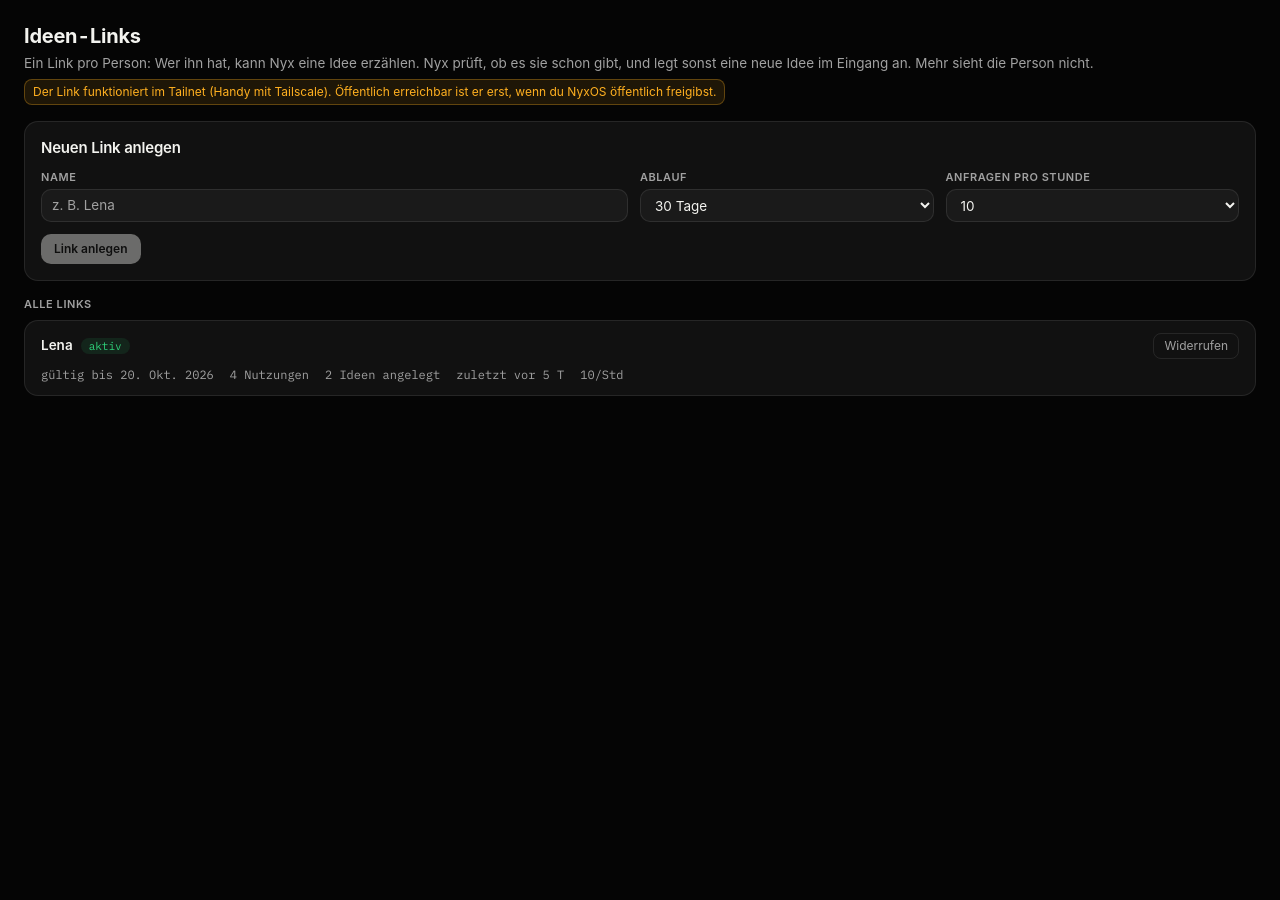
Test case: Ideen-Links › legt einen Link an und zeigt die URL genau einmal
Expected: the text "Lena" is shown, [41, 336, 73, 356]
Expected: the text "funktioniert im Tailnet" is shown, [33, 84, 716, 99]
Type "Max" into the field labelled "Name" at (334, 206), box [41, 189, 628, 222]
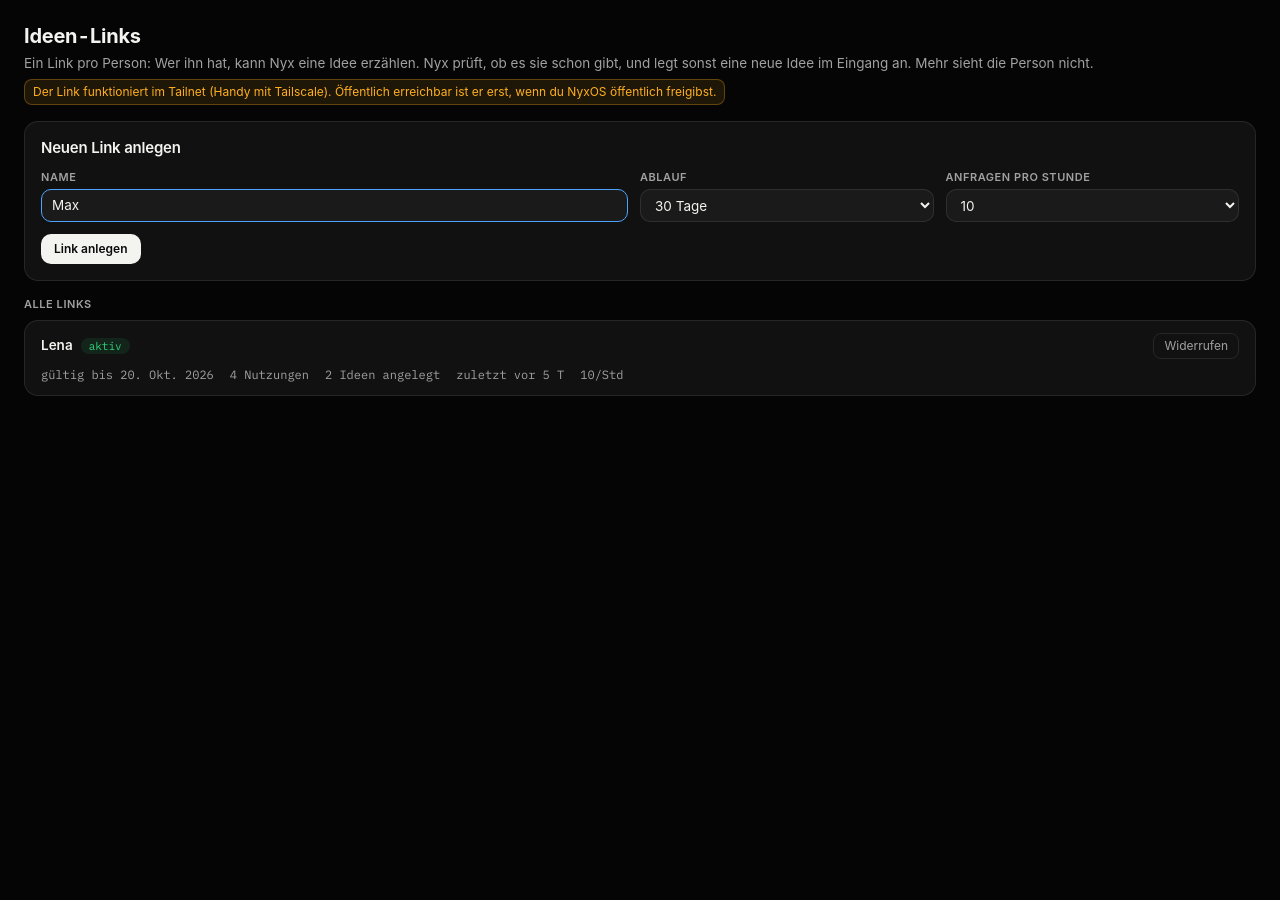
Select "30 Tage" in the dropdown labelled "Ablauf" at (787, 206), box [640, 190, 934, 222]
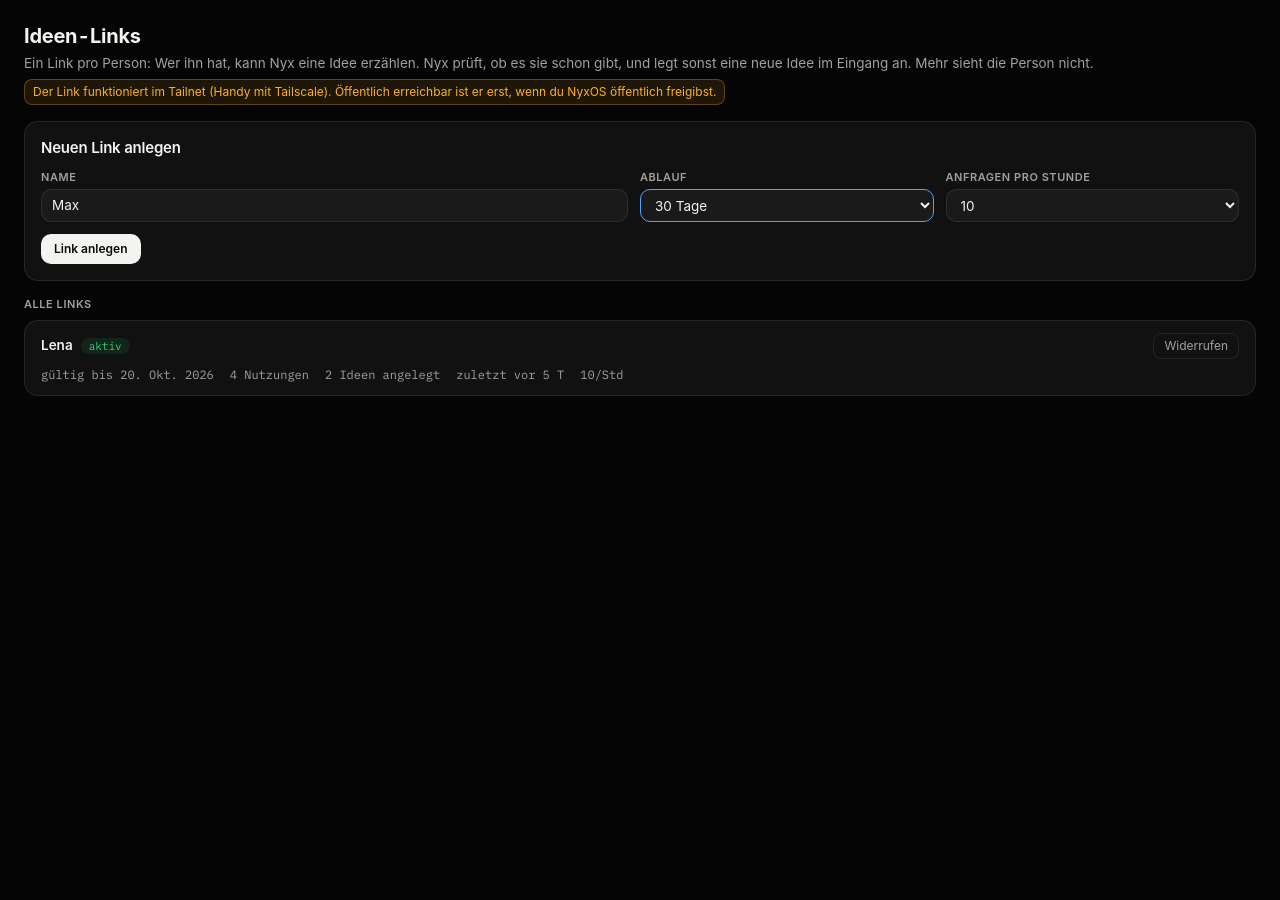
Select "5" in the dropdown labelled "Anfragen pro Stunde" at (1092, 206), box [946, 190, 1239, 222]
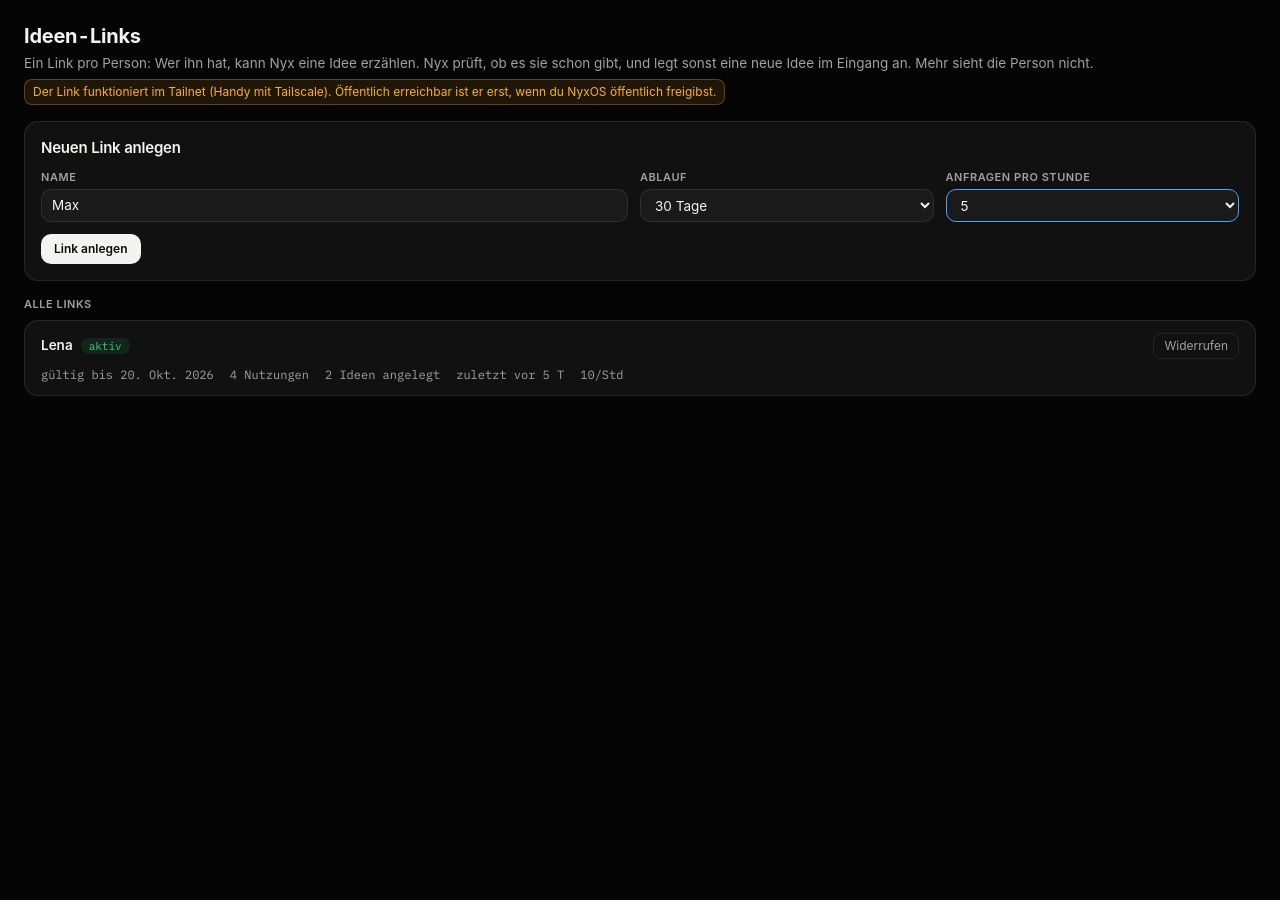
Click the button "Link anlegen" at (91, 249), box [41, 234, 140, 264]
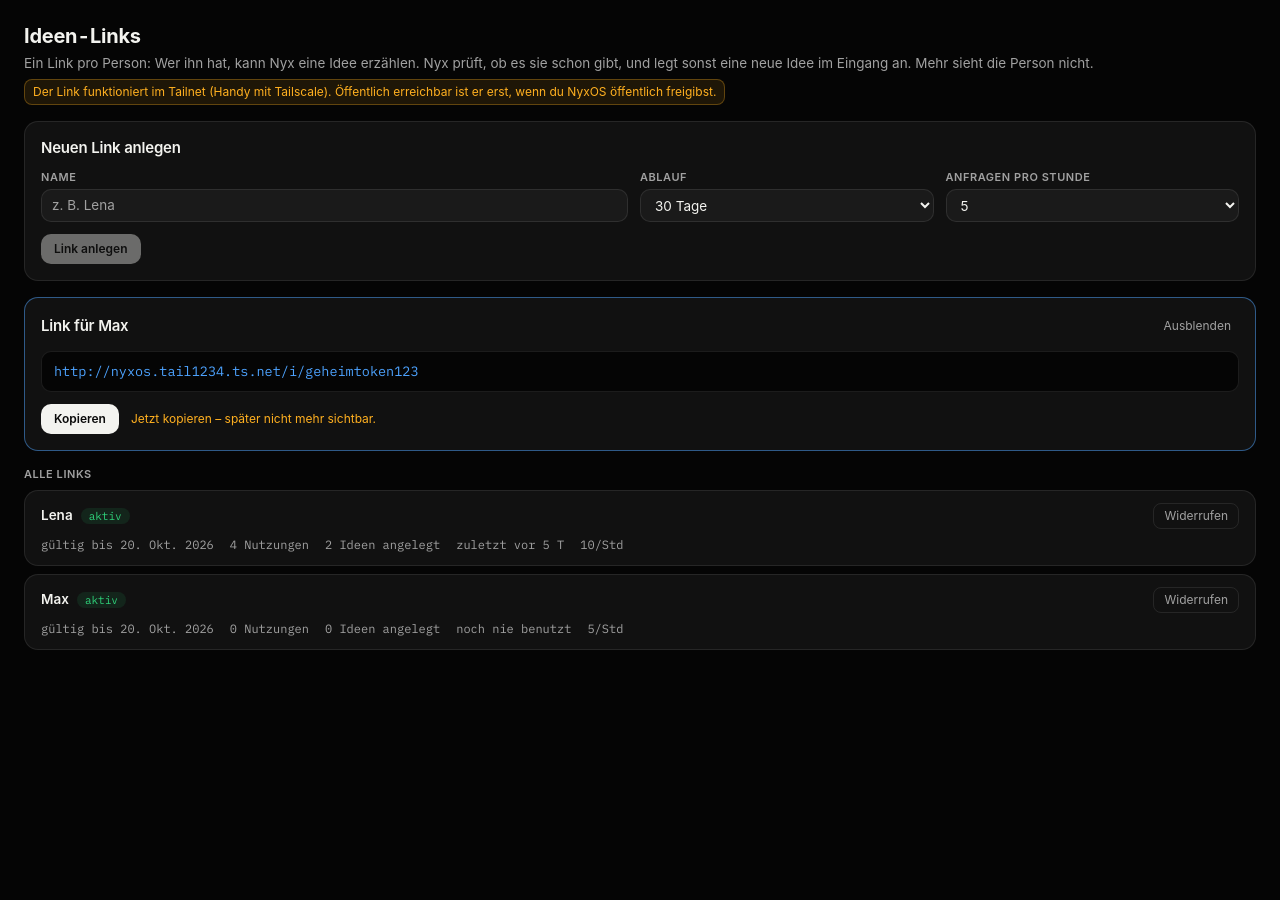
Now the text "http://nyxos.tail1234.ts.net/i/geheimtoken123" is shown, box [41, 351, 1239, 392]
Now the text "Jetzt kopieren – später nicht mehr sichtbar." is shown, box [131, 411, 376, 427]
Now the button "Kopieren" is shown, box [41, 404, 119, 434]
Click the button "Ausblenden" at (1197, 326), box [1156, 314, 1239, 339]
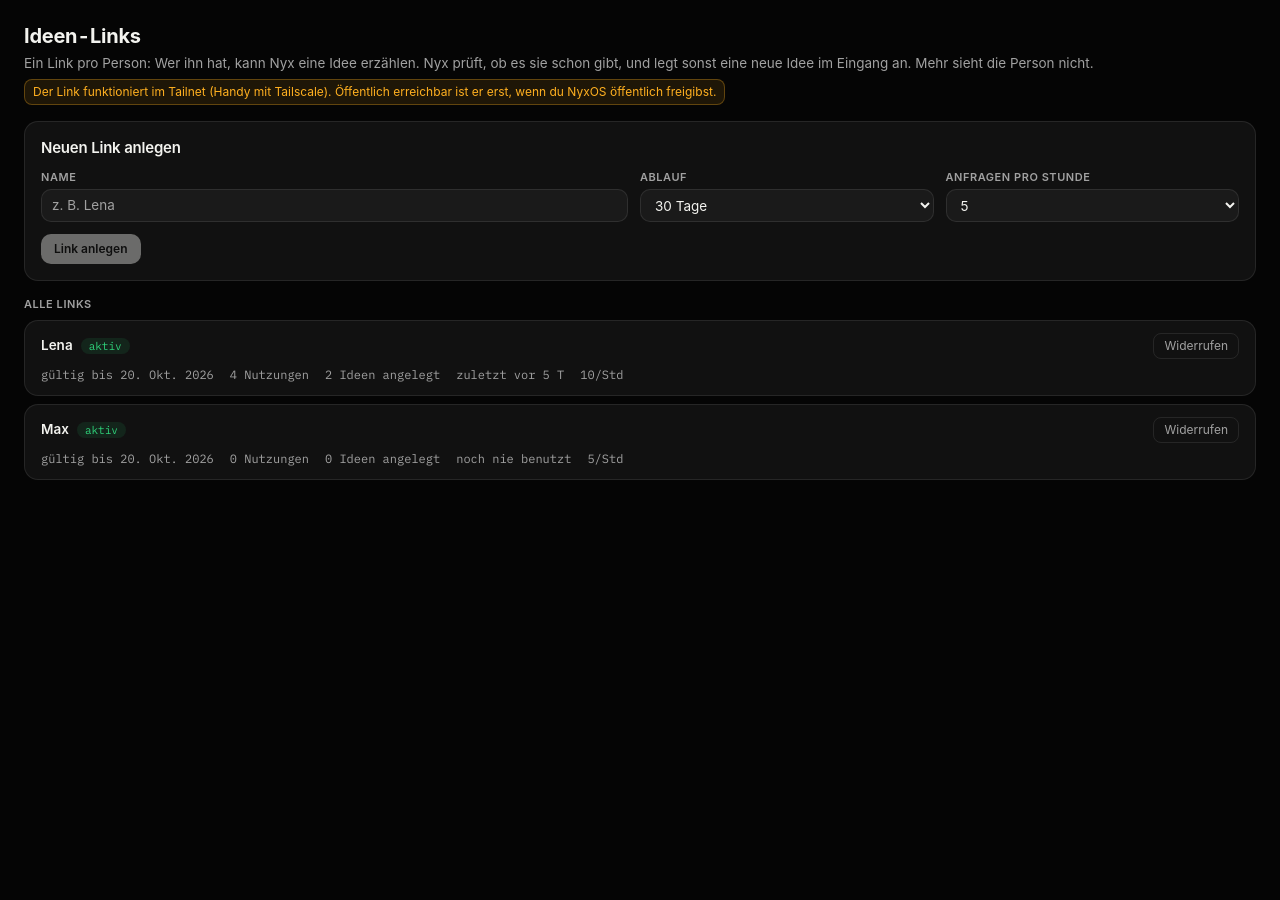
Now the text "http://nyxos.tail1234.ts.net/i/geheimtoken123" is gone
